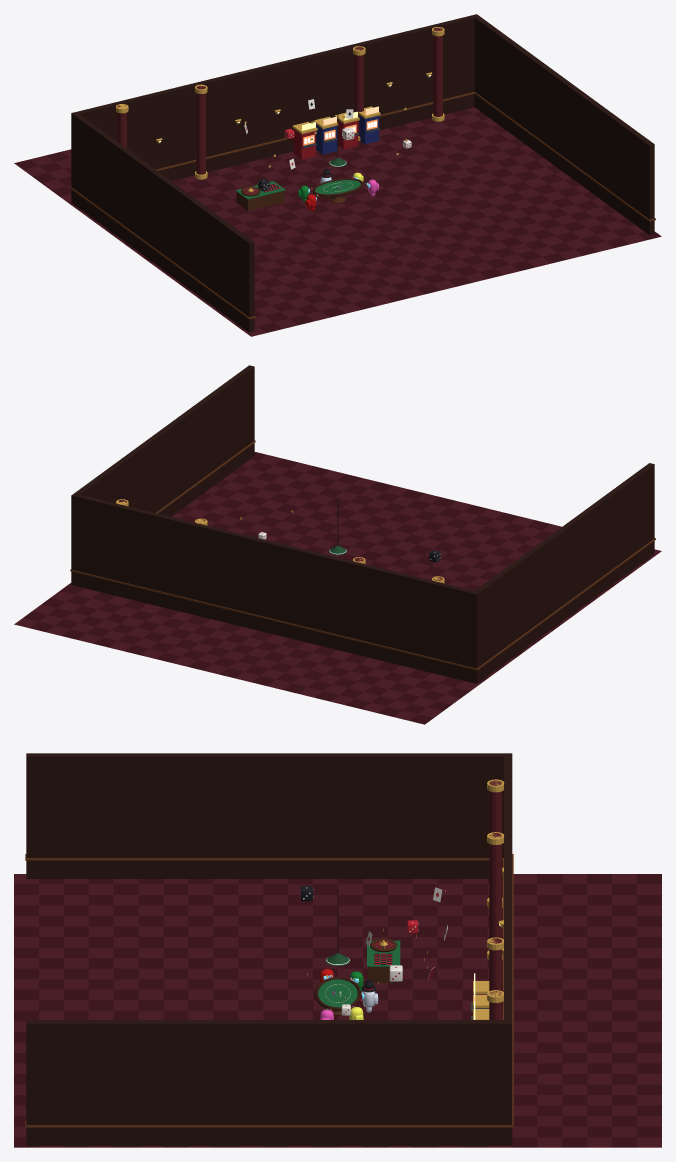
Rendered from chance.glb.
3 renders of one model, top to bottom at view 1: azimuth 30°, elevation 25°; view 2: azimuth 150°, elevation 25°; view 3: azimuth 270°, elevation 25°, orthographic. The views are drawn at different scales.
Visible parts, largest first — view 1: terrain_room, roulette_table, table, slot0, slot1, slot3, slot2; view 2: terrain_room; view 3: terrain_room, table, roulette_table.
Part boxes in pixels (box(x1,y1,x2,y2)): terrain_room: box(14, 14, 661, 336); roulette_table: box(235, 181, 285, 210); table: box(311, 177, 366, 203); slot0: box(292, 121, 317, 159); slot1: box(313, 116, 338, 154); slot3: box(358, 106, 380, 144); slot2: box(334, 111, 359, 149); terrain_room: box(14, 365, 661, 724); terrain_room: box(14, 753, 661, 1147); table: box(314, 975, 361, 1015); roulette_table: box(367, 938, 400, 982).
Size of the model in its own units: 31.2 by 6.5 by 31.2.
